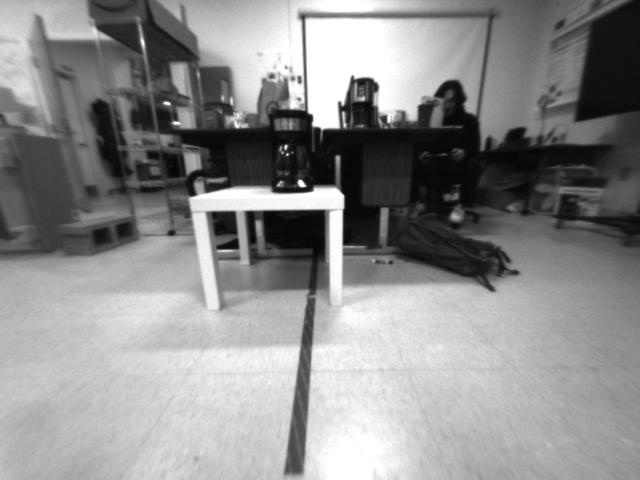coffee_pot: (264, 109, 315, 192)
